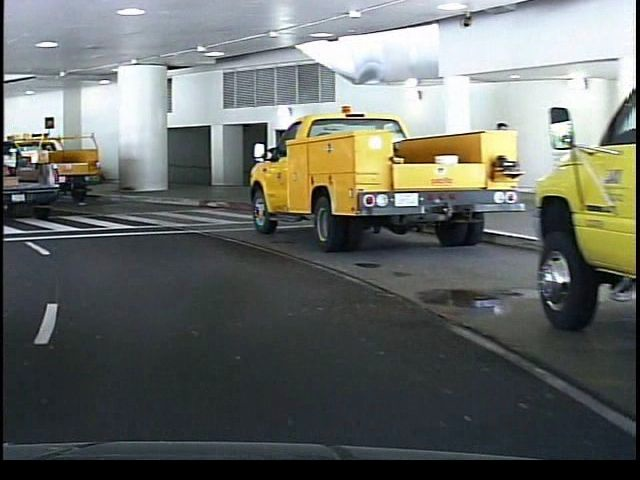person: (480, 113, 514, 218)
